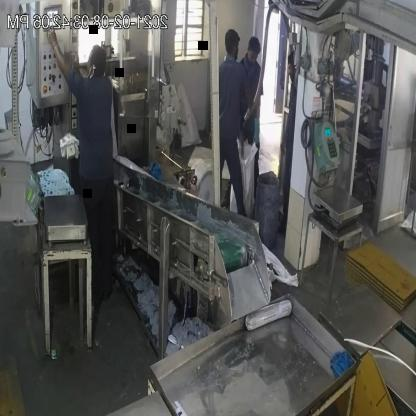no_glove: (42, 20, 78, 87)
